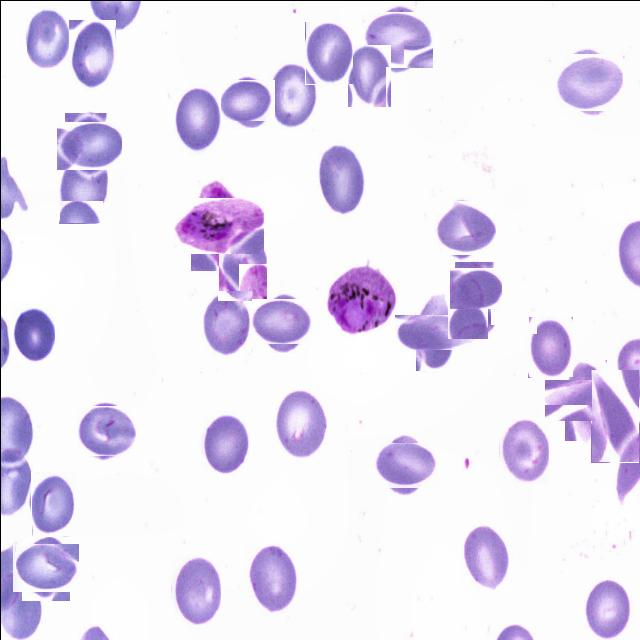red blood cell: (590, 369, 638, 462), (272, 388, 330, 460), (364, 6, 428, 70), (558, 49, 620, 112), (554, 368, 616, 431), (244, 542, 298, 614), (170, 555, 220, 626), (433, 198, 492, 256), (460, 521, 509, 590), (16, 538, 74, 596), (268, 61, 318, 128), (68, 19, 115, 90), (317, 144, 364, 214), (58, 156, 107, 223), (498, 418, 548, 483), (60, 116, 116, 174), (217, 234, 266, 300), (201, 290, 251, 354), (198, 411, 248, 475), (77, 402, 133, 458), (173, 87, 220, 153), (377, 437, 433, 492), (405, 304, 461, 359), (304, 21, 352, 84), (30, 471, 76, 536), (584, 579, 634, 638), (255, 294, 309, 348), (446, 279, 494, 339), (346, 44, 390, 107), (527, 316, 572, 377), (26, 6, 68, 69), (12, 304, 56, 362), (223, 75, 271, 124), (451, 264, 498, 312)
trophozoite: (182, 188, 254, 261), (326, 264, 398, 333)
